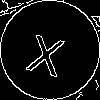X: (25, 25, 69, 77)
